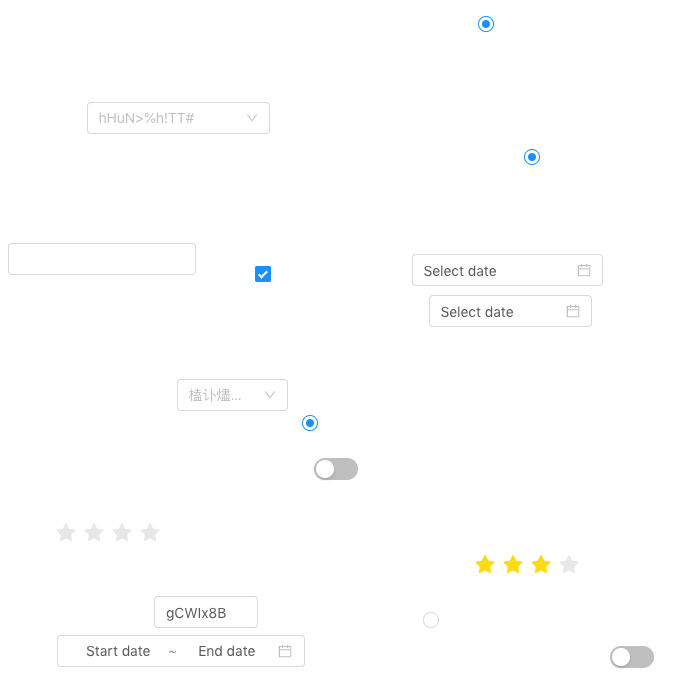Checkbox: (255, 263, 271, 284)
DatePicker: (412, 254, 603, 286), (429, 295, 592, 327)
Input: (8, 243, 196, 275), (154, 596, 258, 628)
Radio: (478, 13, 494, 33), (302, 412, 318, 432), (423, 609, 439, 629), (524, 146, 540, 166)
RangePicker: (57, 635, 305, 667)
Rate: (56, 516, 176, 548), (475, 548, 595, 580)
Select: (87, 102, 270, 134), (177, 379, 288, 411)
Switch: (610, 645, 654, 669), (314, 457, 358, 481)
